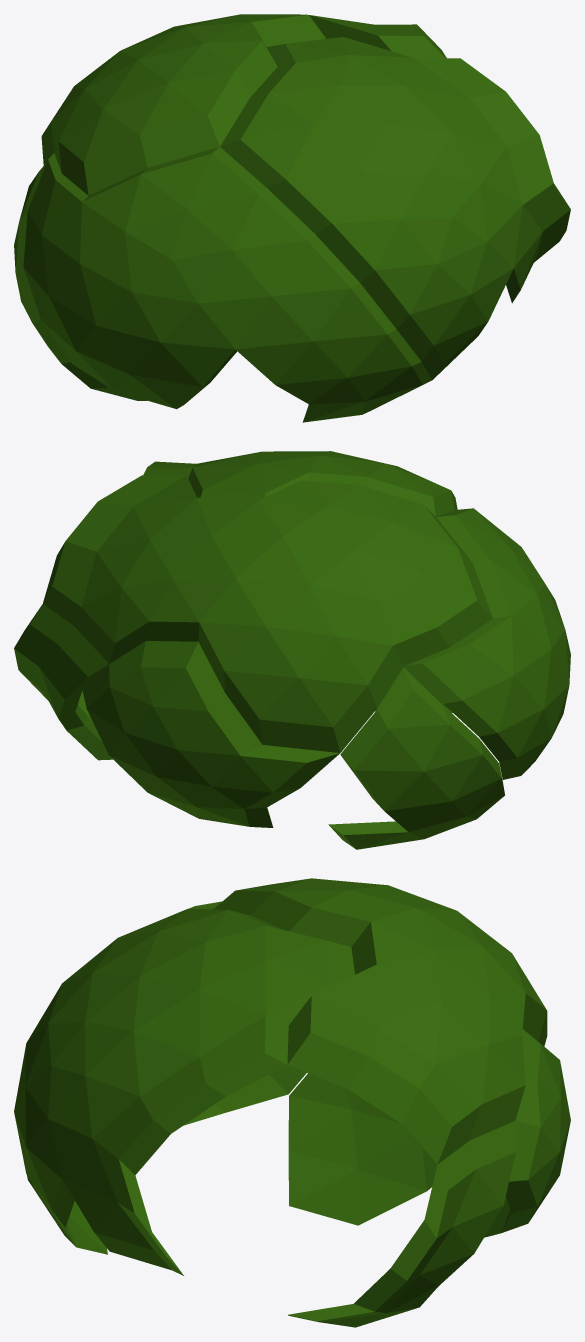
File: Shield.fbx
3 views of the same model, one above another, from view 1: azimuth 30°, elevation 25°; view 2: azimuth 150°, elevation 25°; view 3: azimuth 270°, elevation 25° (orthographic). The views are drawn at different scales.
Parts seen in each view (by area): view 1: Shield3, Shield5, Shield4, Shield1; view 2: Shield4, Shield2, Shield3, Shield1, Shield5, Shield6; view 3: Shield5, Shield4, Shield1, Shield6, Shield2, Shield3.
Boxes of the visible parts, box(x1,y1,x2,y2) form: Shield3: box(23, 147, 431, 422); Shield5: box(220, 37, 570, 379); Shield4: box(41, 14, 446, 195); Shield1: box(14, 162, 146, 400); Shield4: box(43, 475, 492, 752); Shield2: box(82, 641, 339, 827); Shield3: box(375, 508, 570, 779); Shield1: box(328, 668, 504, 849); Shield5: box(143, 451, 457, 516); Shield6: box(14, 604, 112, 760); Shield5: box(14, 908, 354, 1275); Shield4: box(214, 878, 547, 1164); Shield1: box(288, 1073, 437, 1225); Shield6: box(288, 1121, 515, 1327); Shield2: box(484, 1029, 570, 1237); Shield3: box(27, 901, 306, 1254).
Bounding box in the file's own units: 0.5508 × 0.3642 × 0.5094.
